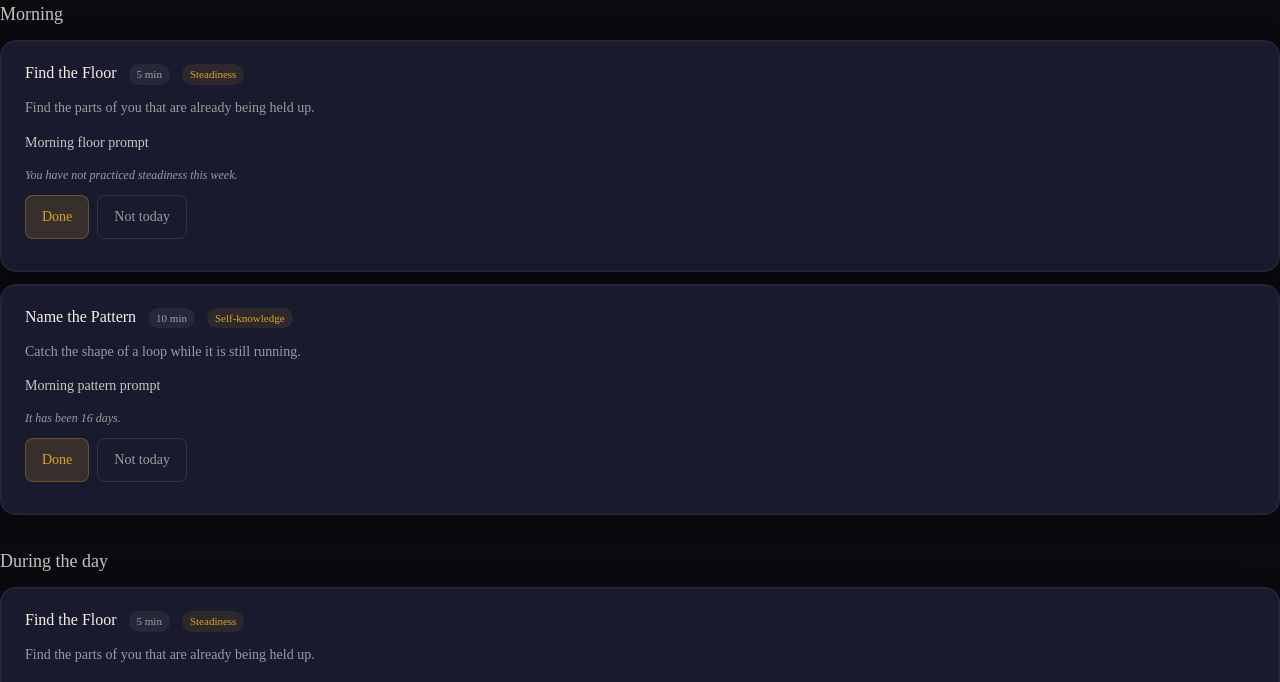
Scenario: DailyProtocol follow-ups › confirms the self-check instead of unmounting it
Click the button "Done" below "Morning floor prompt" at (57, 216), box [25,194,89,238]
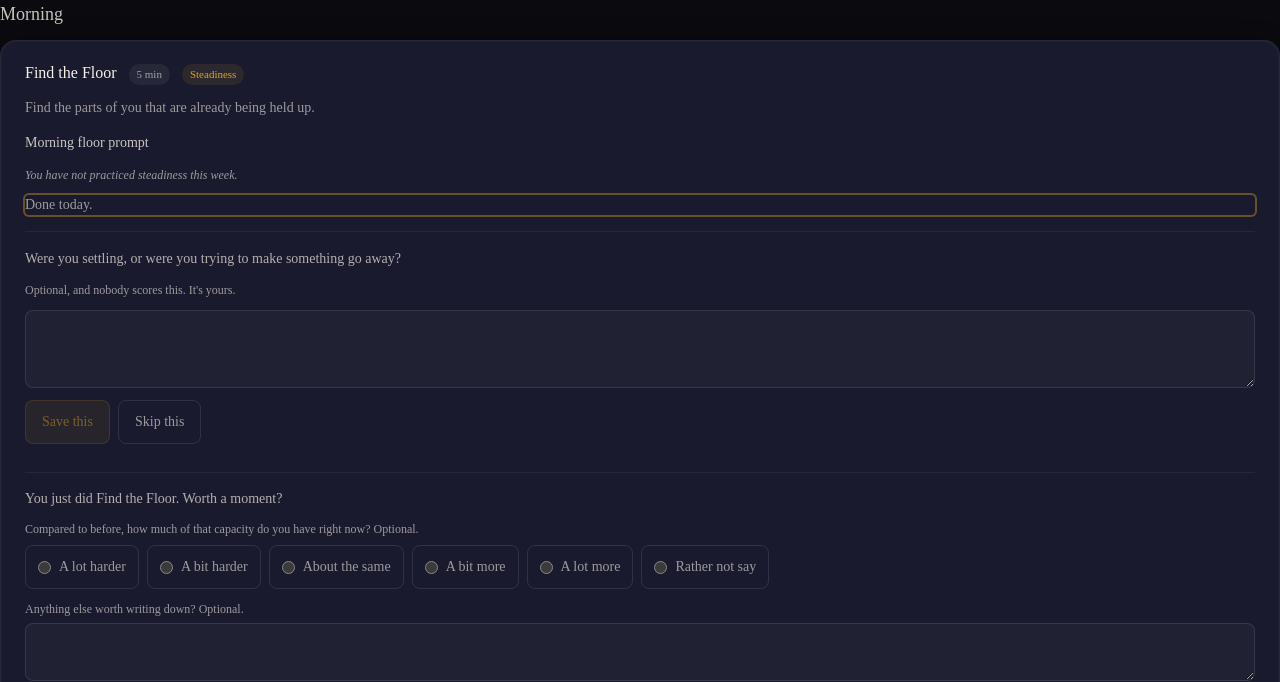
Now the button "Save this" is shown, box [25,400,110,444]
Type "Settling, mostly." into the text box labelled "Were you settling, or were you trying to make something go away?" at (640, 349), box [25,310,1255,388]
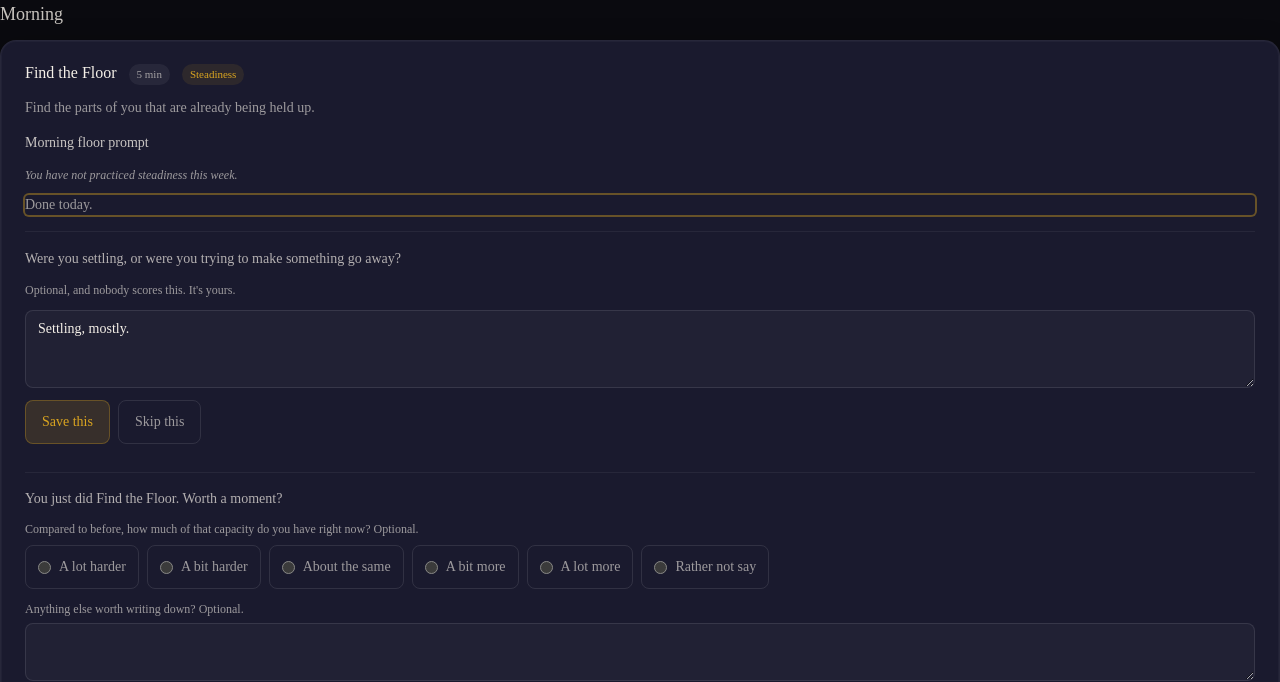
Click the button "Save this" at (68, 422), box [25,400,110,444]
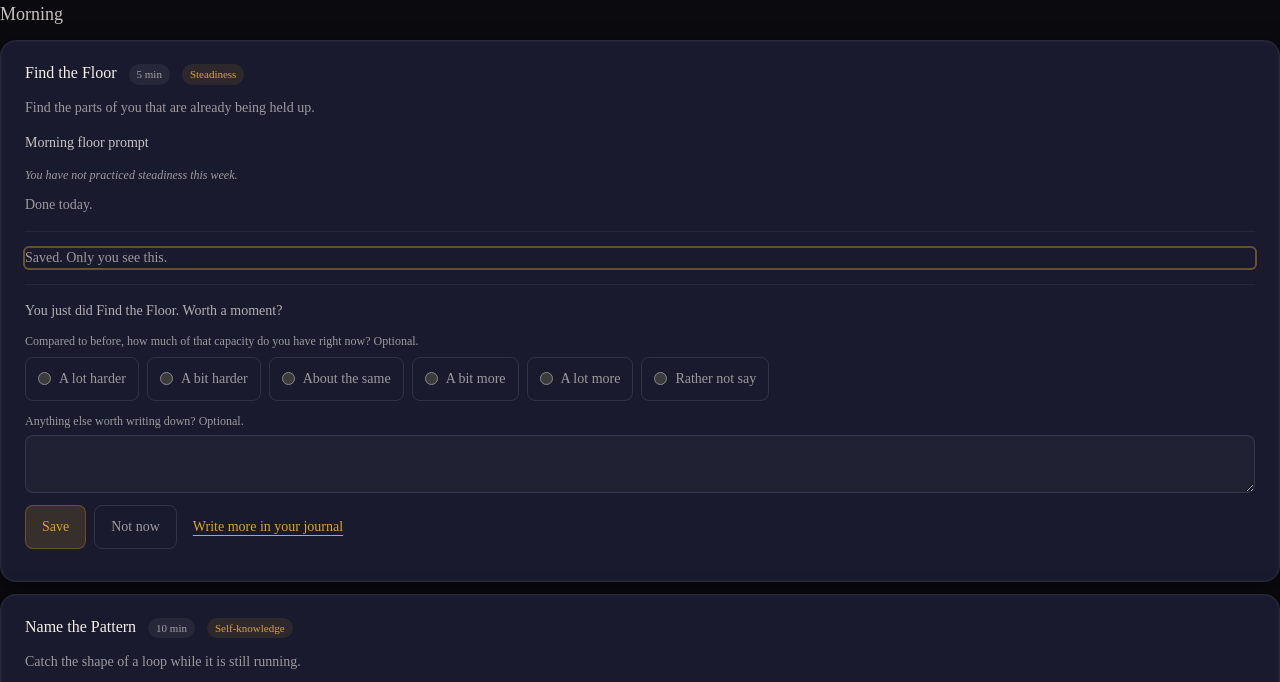
Now the text "Saved. Only you see this." is shown, box [25,248,1255,268]
